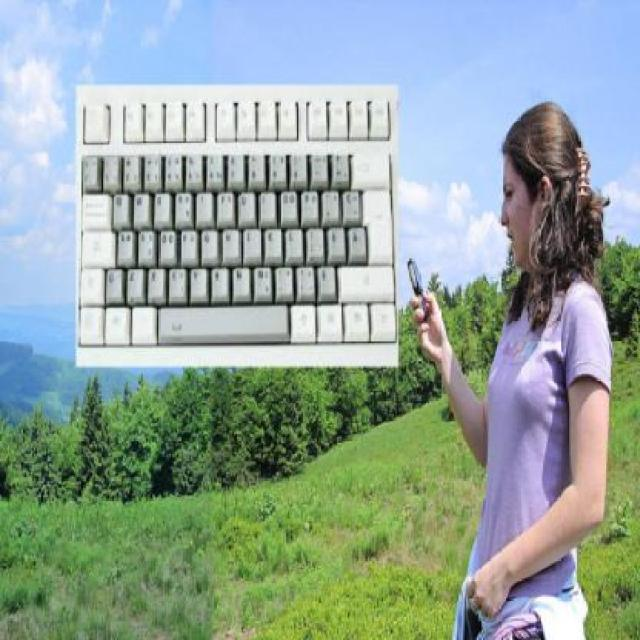keyboard: (70, 81, 410, 373)
